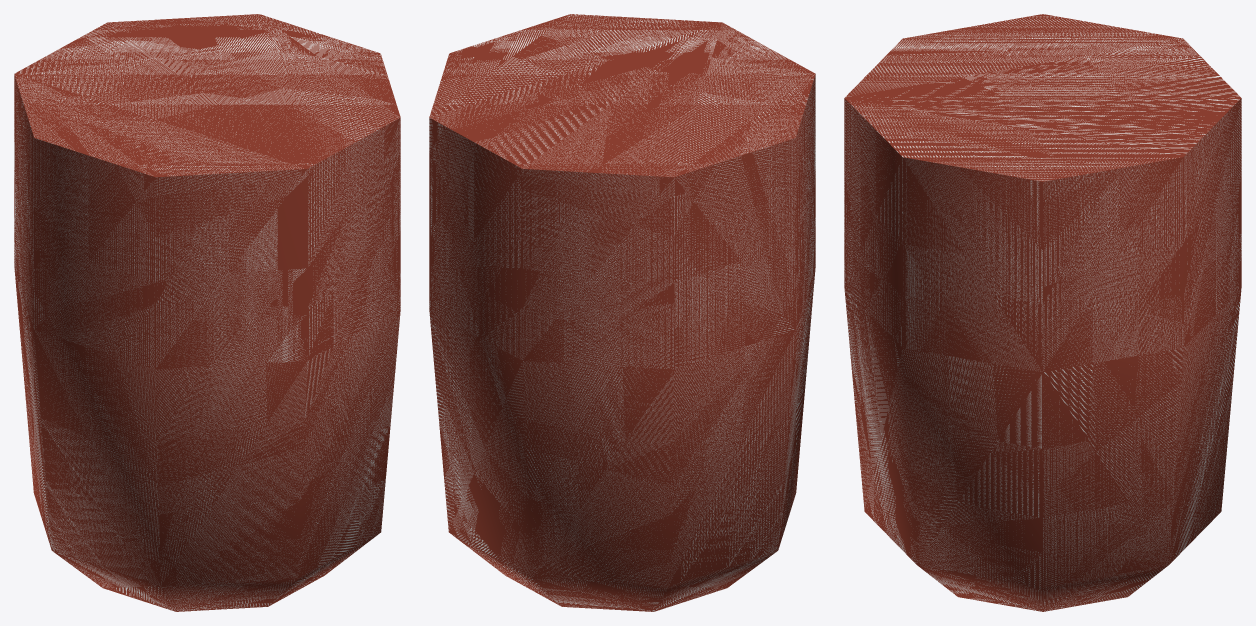
The model's file is original-44.obj.
The picture shows the model from 3 angles, left to right: view 1: azimuth 30°, elevation 25°; view 2: azimuth 150°, elevation 25°; view 3: azimuth 270°, elevation 25°; orthographic projection.
Visible parts, largest first — view 1: Group_22_30/Group_22/mesh9/mesh9-geometry#mesh9-geometry; view 2: Group_22_30/Group_22/mesh9/mesh9-geometry#mesh9-geometry; view 3: Group_22_30/Group_22/mesh9/mesh9-geometry#mesh9-geometry.
Boxes of the visible parts, x1,y1,x2,y2 form: Group_22_30/Group_22/mesh9/mesh9-geometry#mesh9-geometry: [14, 14, 400, 611]; Group_22_30/Group_22/mesh9/mesh9-geometry#mesh9-geometry: [429, 14, 815, 611]; Group_22_30/Group_22/mesh9/mesh9-geometry#mesh9-geometry: [844, 14, 1241, 611].
Bounding box in the file's own units: 0.0121 × 0.0156 × 0.0121.
